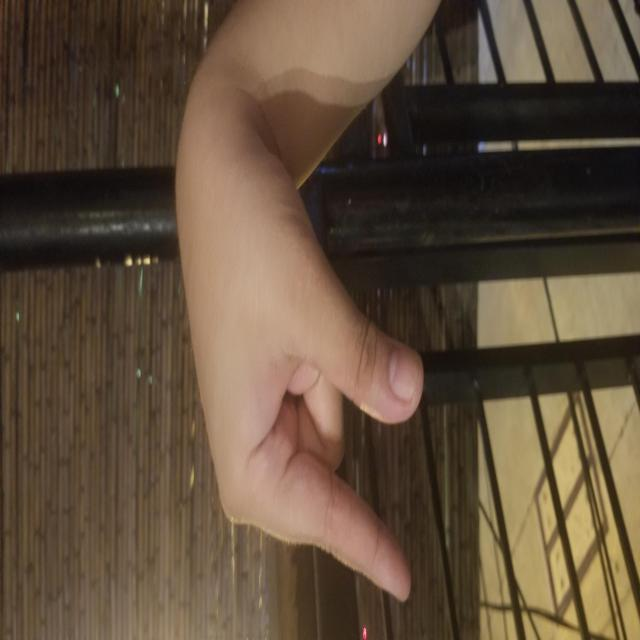Q: (82, 59, 476, 629)
